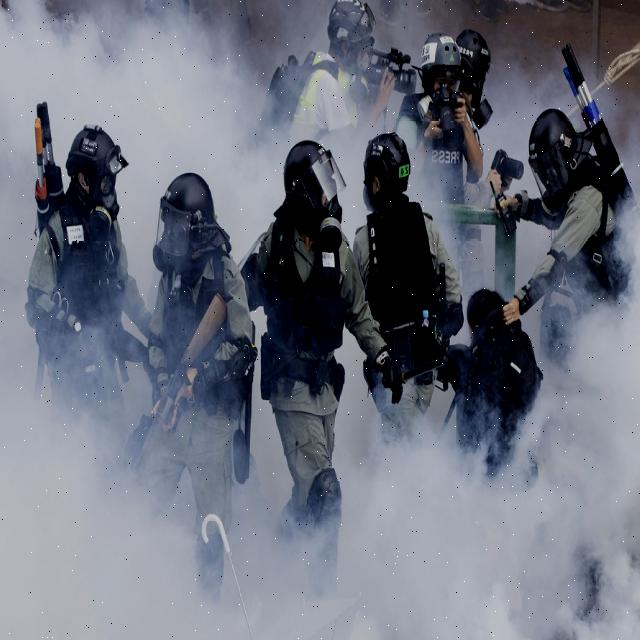police: (237, 103, 378, 624), (14, 69, 154, 543), (130, 151, 254, 614), (351, 111, 484, 508), (527, 24, 640, 402)
